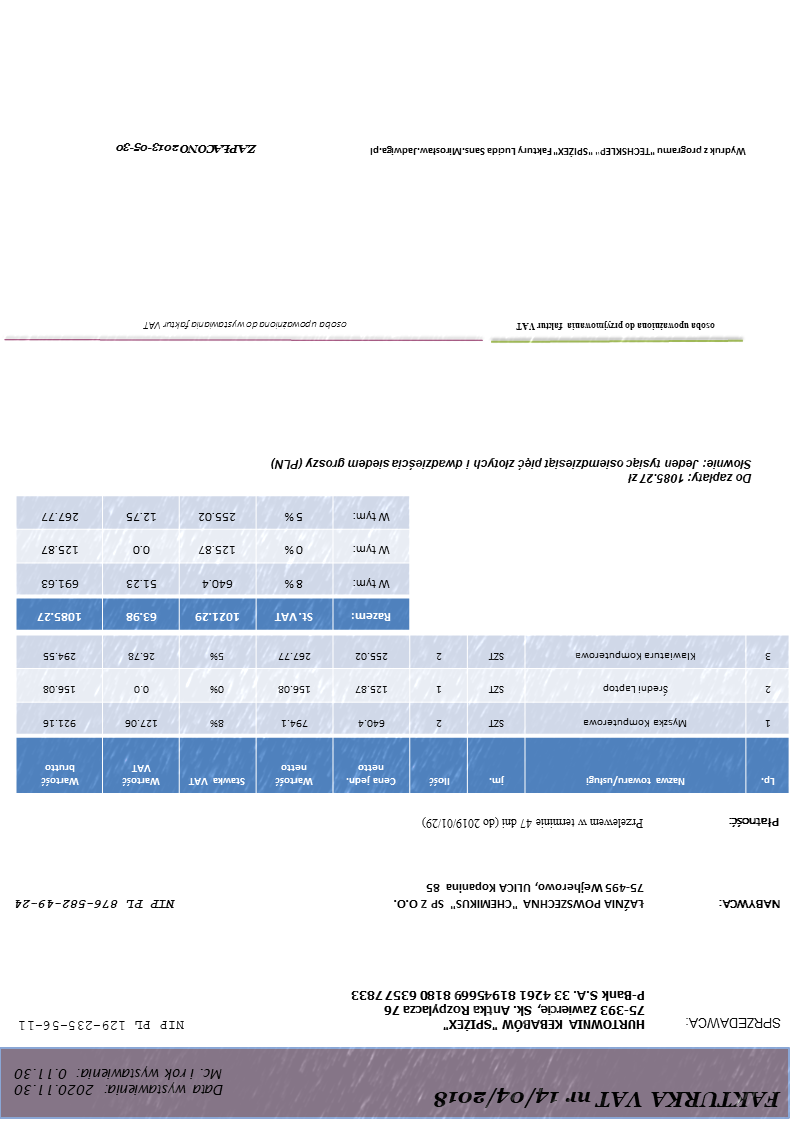Table: (14, 636, 792, 795), (16, 495, 412, 631)
TextBox: (268, 453, 755, 487), (350, 985, 647, 1032), (429, 1083, 784, 1113), (391, 880, 648, 912), (9, 1065, 227, 1099), (367, 143, 750, 160), (419, 815, 646, 832), (513, 318, 721, 334), (14, 895, 178, 913), (142, 319, 350, 333), (17, 1016, 188, 1033), (113, 139, 260, 157), (684, 1015, 784, 1033), (718, 897, 785, 912), (726, 814, 784, 830)
